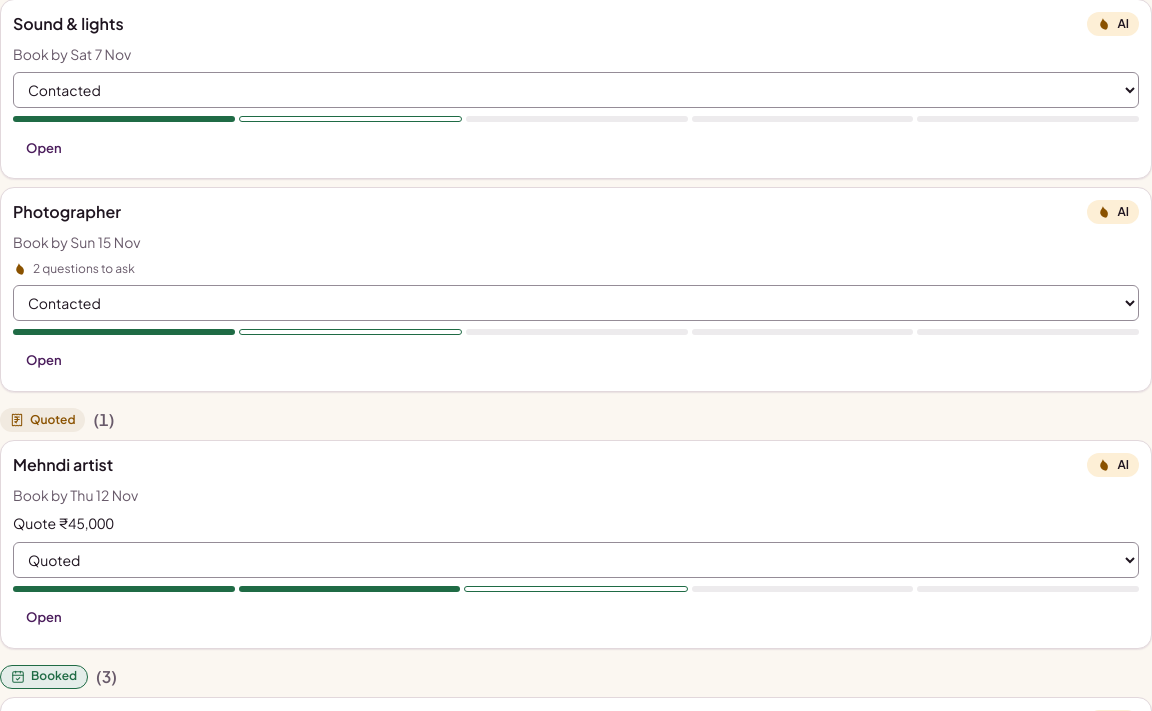
Test case: Enquiry draft › explains a failed save with the store's reason, or a fallback
This screenshot has width=1152, height=711.
(page scrolled)
Click the button with aria-label "Open Photographer". click: (44, 361)
box: [13, 343, 75, 379]
(page scrolled)
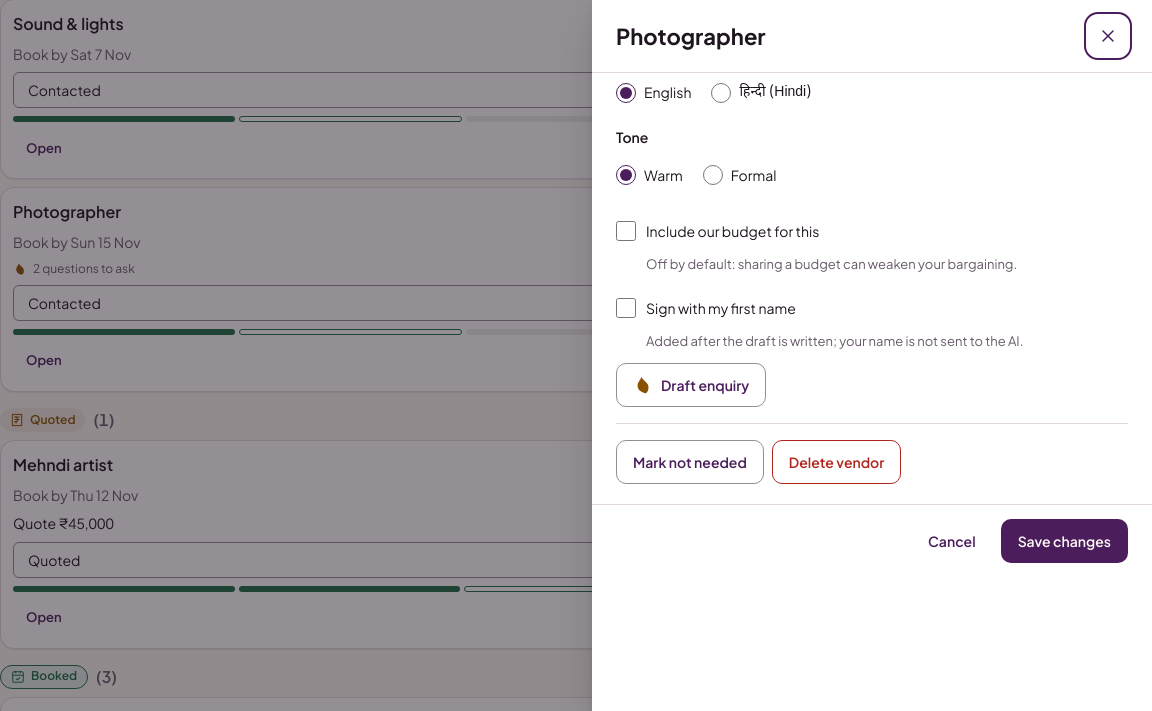
Click the button "Draft enquiry". click: (691, 384)
box: [616, 362, 766, 406]
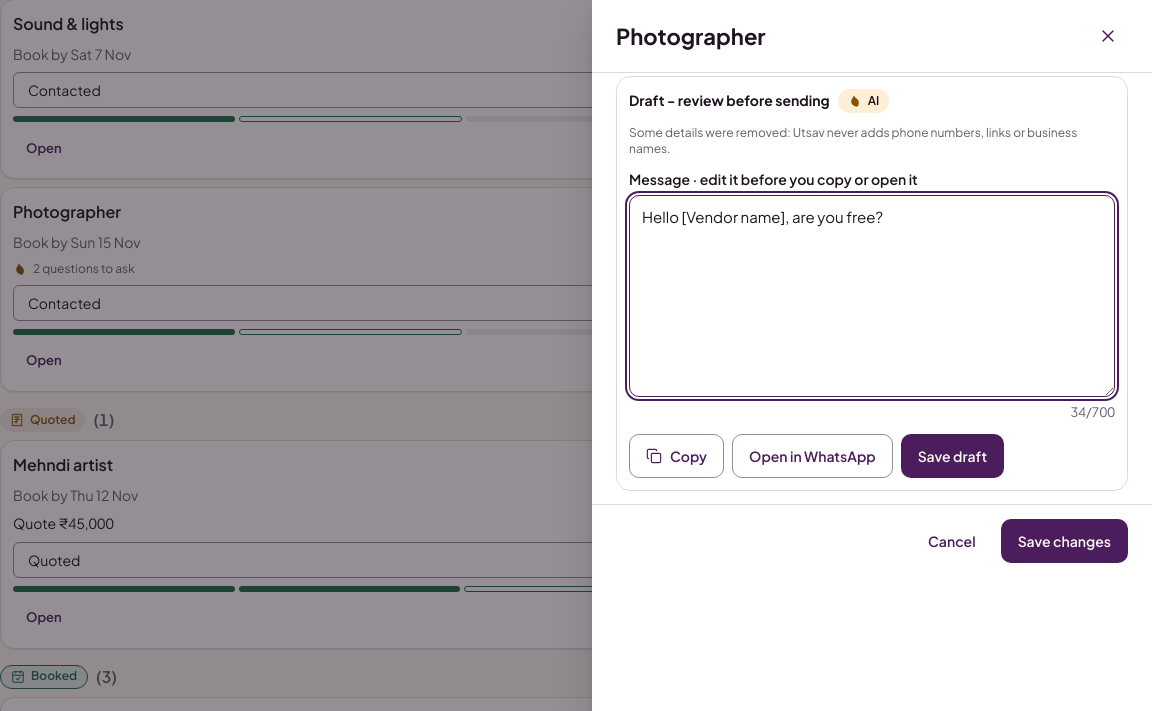
Click the button "Save draft". click: (952, 456)
box: [901, 434, 1004, 478]
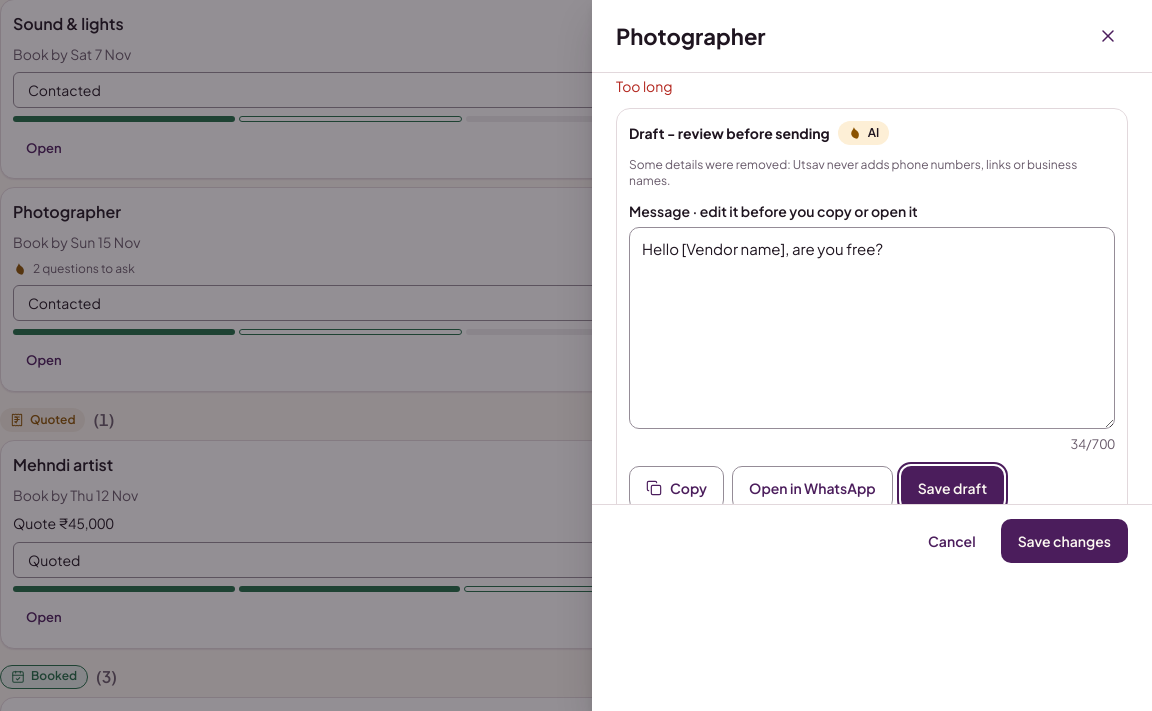
Check: the message reads "Too long", box [616, 76, 673, 94]
Click the button "Save draft". click: (952, 488)
box: [901, 466, 1004, 510]
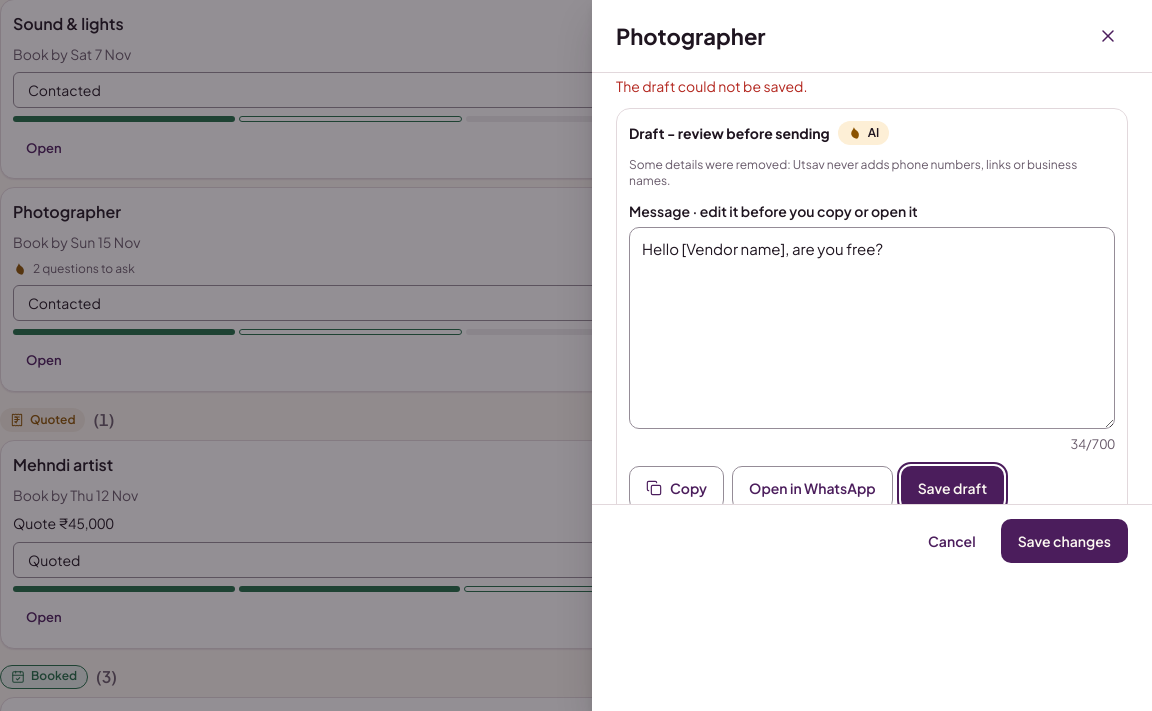
Check: the message reads "The draft could not be saved.", box [616, 76, 808, 94]
